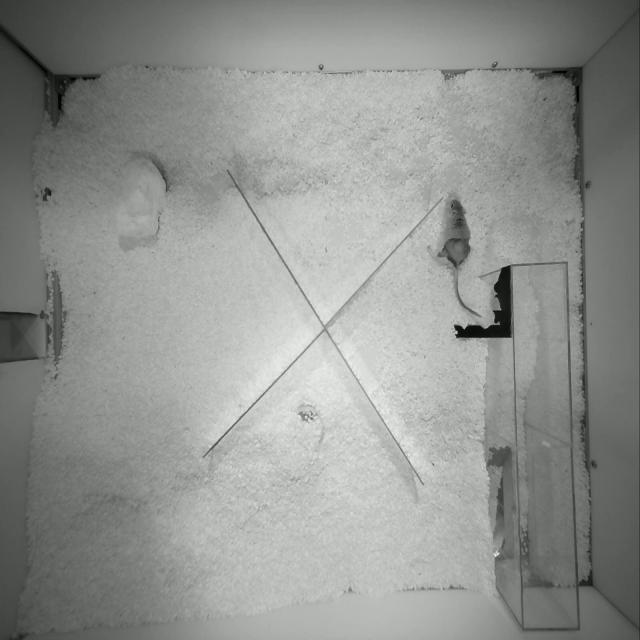adult_back: (428, 198, 481, 317)
